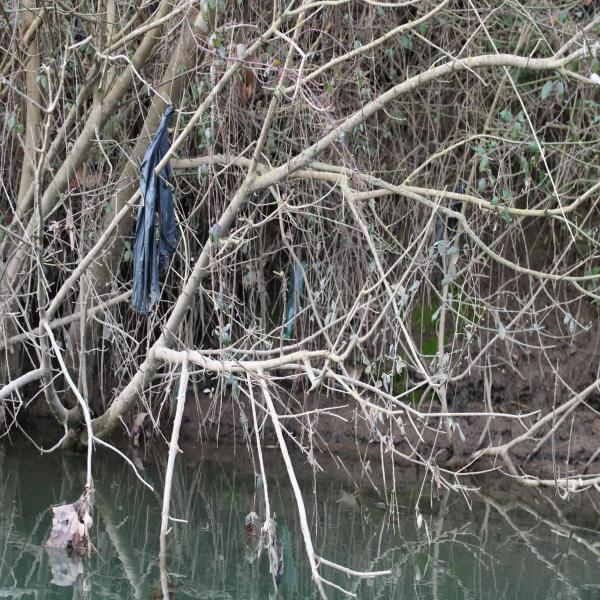bottles: (283, 260, 308, 341)
fragments: (131, 105, 177, 316)
